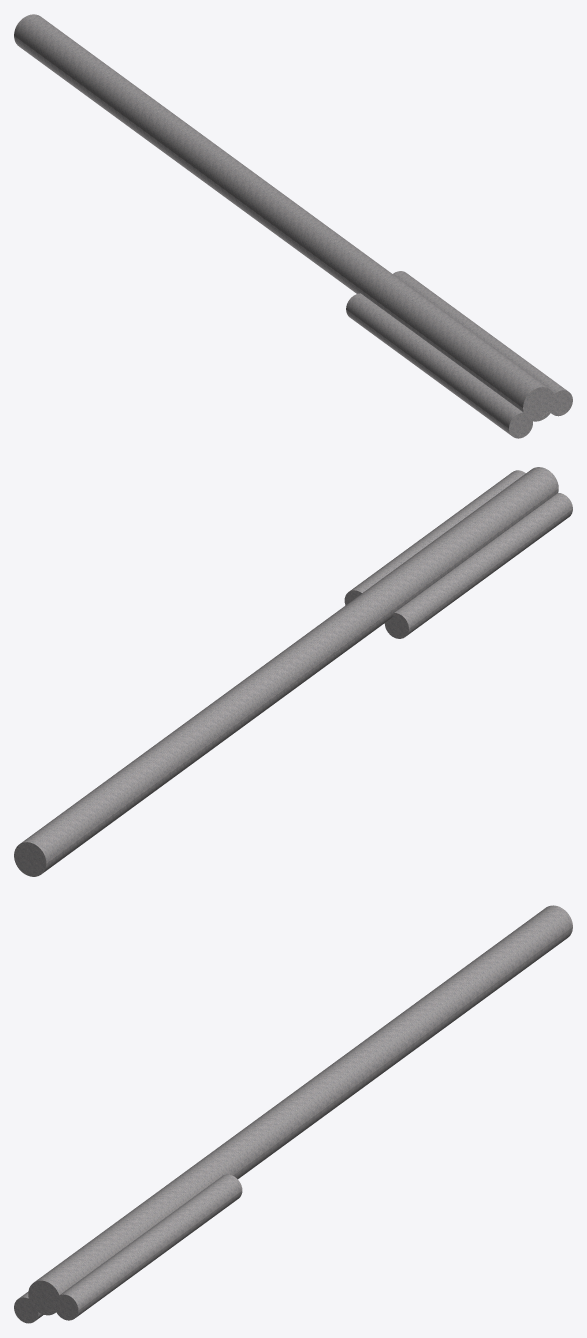
The picture shows the model from 3 angles, top to bottom: view 1: azimuth 30°, elevation 25°; view 2: azimuth 150°, elevation 25°; view 3: azimuth 330°, elevation 25°; orthographic projection.
Parts seen in each view (by area): view 1: 0_3_1_2_2_0_0_2_2; view 2: 0_3_1_2_2_0_0_2_2; view 3: 0_3_1_2_2_0_0_2_2.
Boxes of the visible parts, x1,y1,x2,y2 form: 0_3_1_2_2_0_0_2_2: (14,14,572,438); 0_3_1_2_2_0_0_2_2: (14,467,572,876); 0_3_1_2_2_0_0_2_2: (14,905,572,1323).
Size of the model in its own units: 1.59 by 1.1 by 21.9.
Materials: 3 (3 with a texture image).
